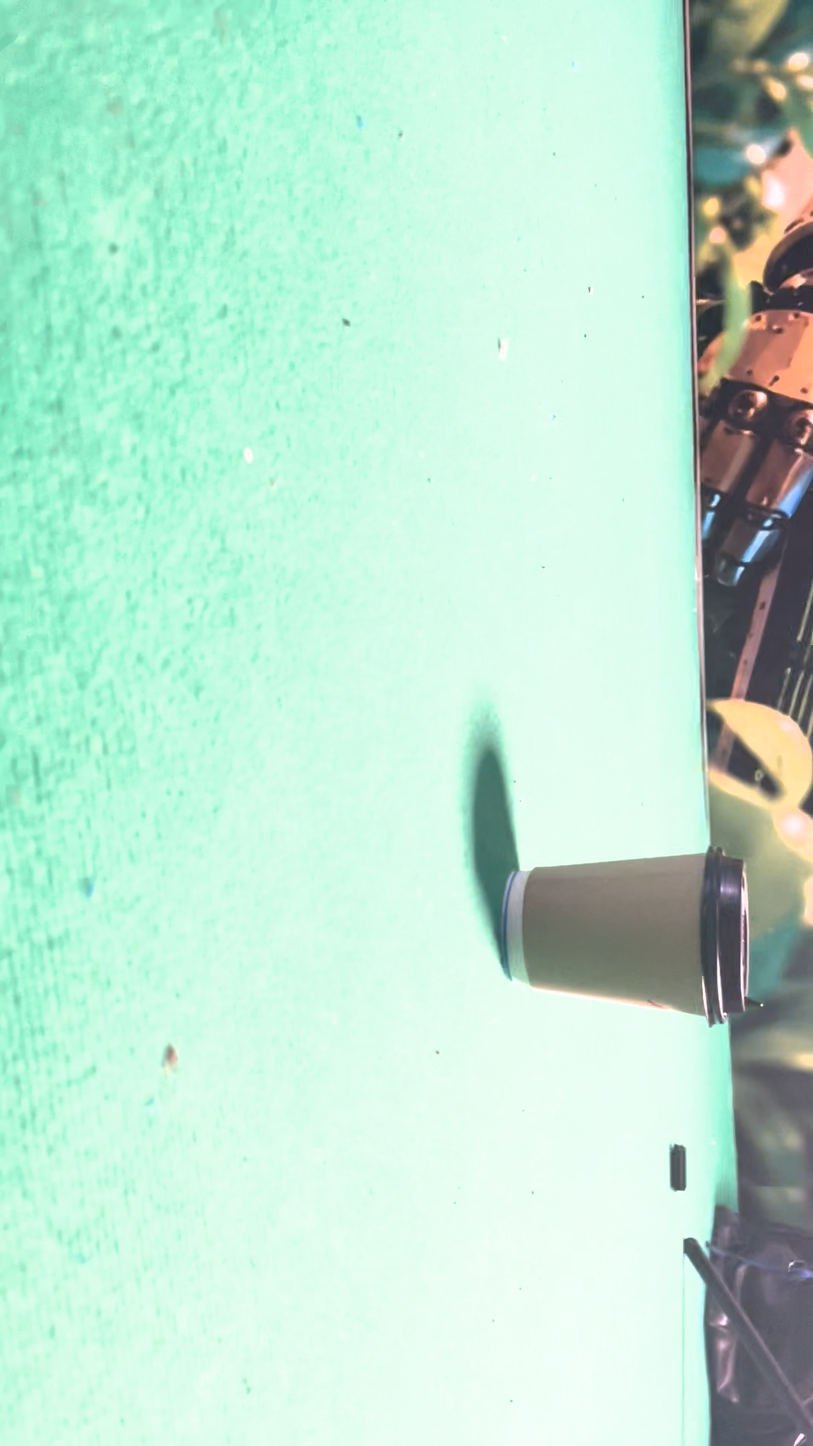cup: (405, 687, 481, 1053)
